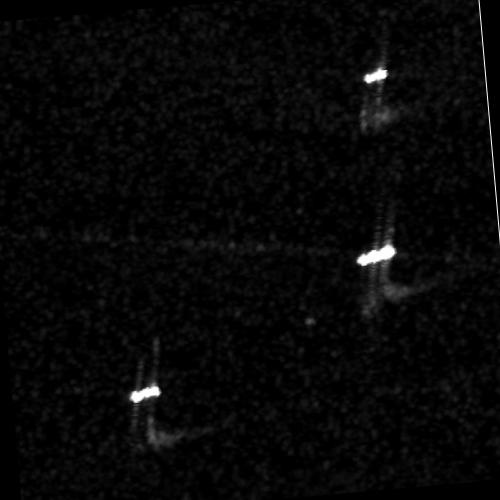ship: (355, 243, 396, 267), (128, 383, 162, 403), (362, 67, 388, 84)
